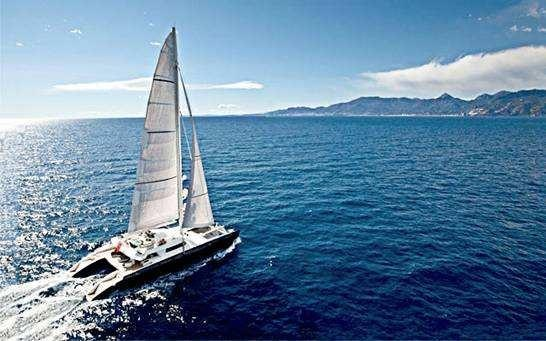fanchuan: (67, 24, 239, 303)
